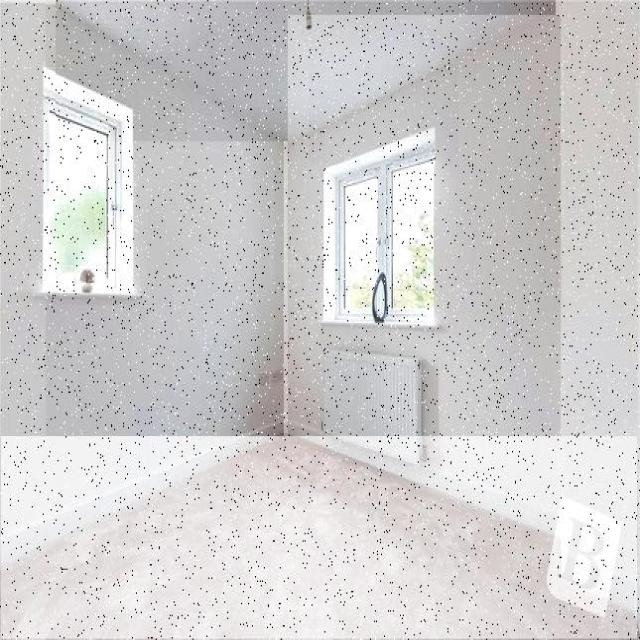Wall: (2, 5, 284, 534), (289, 15, 561, 511), (2, 436, 637, 639), (56, 0, 556, 141), (0, 4, 46, 537), (309, 66, 458, 165)
